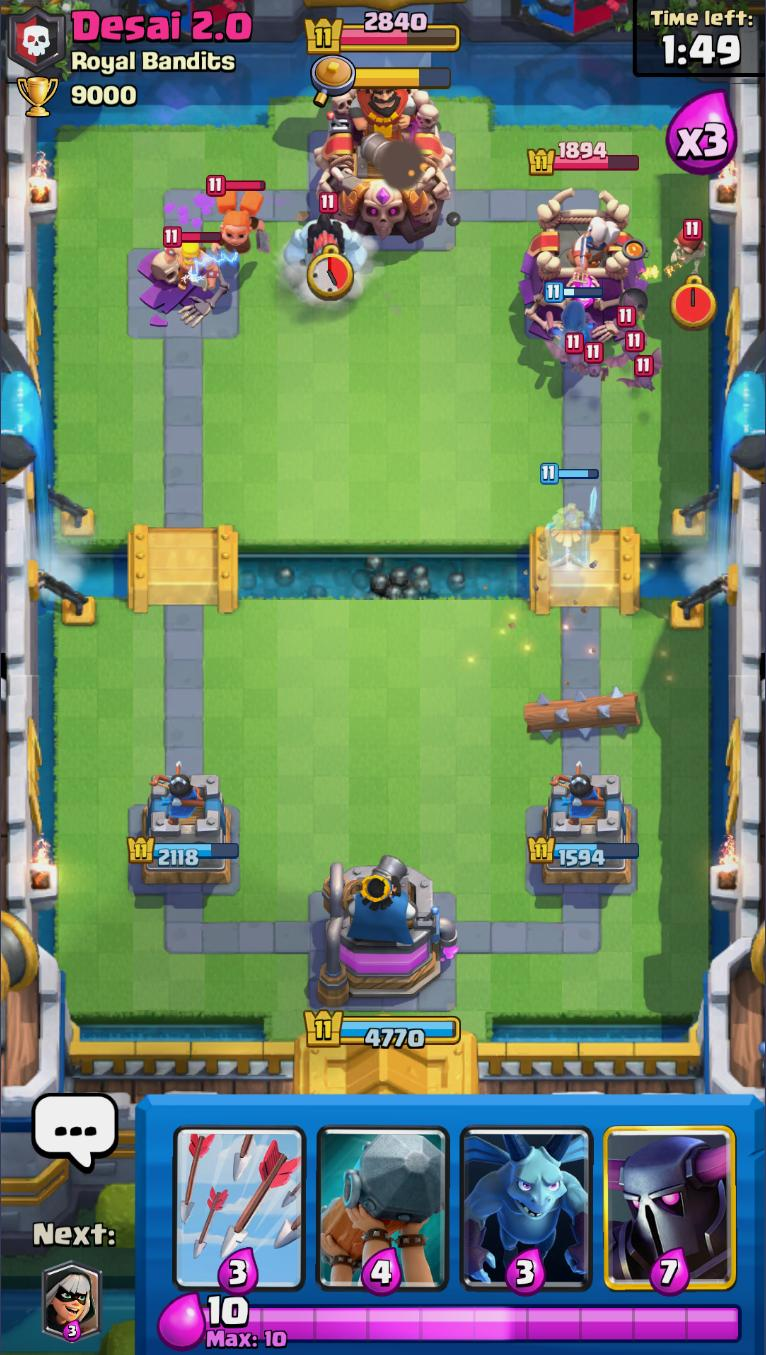ArrowDeck: (165, 1095, 314, 1296)
BanditNext: (38, 1260, 105, 1341)
Barbarian: (159, 228, 221, 294)
Bat: (565, 345, 626, 385), (616, 349, 670, 393), (605, 334, 668, 370), (549, 334, 609, 371), (608, 308, 644, 340)
BattleRamDeck: (310, 1095, 455, 1299)
Berserker: (204, 173, 275, 261)
Bomber: (664, 216, 714, 290)
Chef: (552, 199, 618, 273)
Elixir: (203, 1293, 748, 1351)
EnemyTower: (516, 186, 651, 346)
EnemyTowerBrocken: (128, 244, 242, 344)
IceGolem: (282, 191, 372, 270)
KingTower: (310, 85, 456, 241)
KingTowerHP: (302, 10, 463, 56)
Log: (523, 689, 644, 743)
MinionsDeck: (450, 1096, 604, 1298)
MyBandit: (544, 281, 603, 347)
MyKingHP: (301, 1006, 463, 1053)
MyKingTower: (315, 856, 460, 1008)
MyPrincessTower: (126, 766, 238, 891), (539, 771, 638, 889)
MyPrincessTowerHP: (525, 832, 642, 870), (126, 835, 243, 868)
MyRoyaleGhost: (535, 464, 604, 589)
PekkaDeck: (599, 1098, 744, 1296)
TowerPrincessHP: (528, 138, 641, 178)
